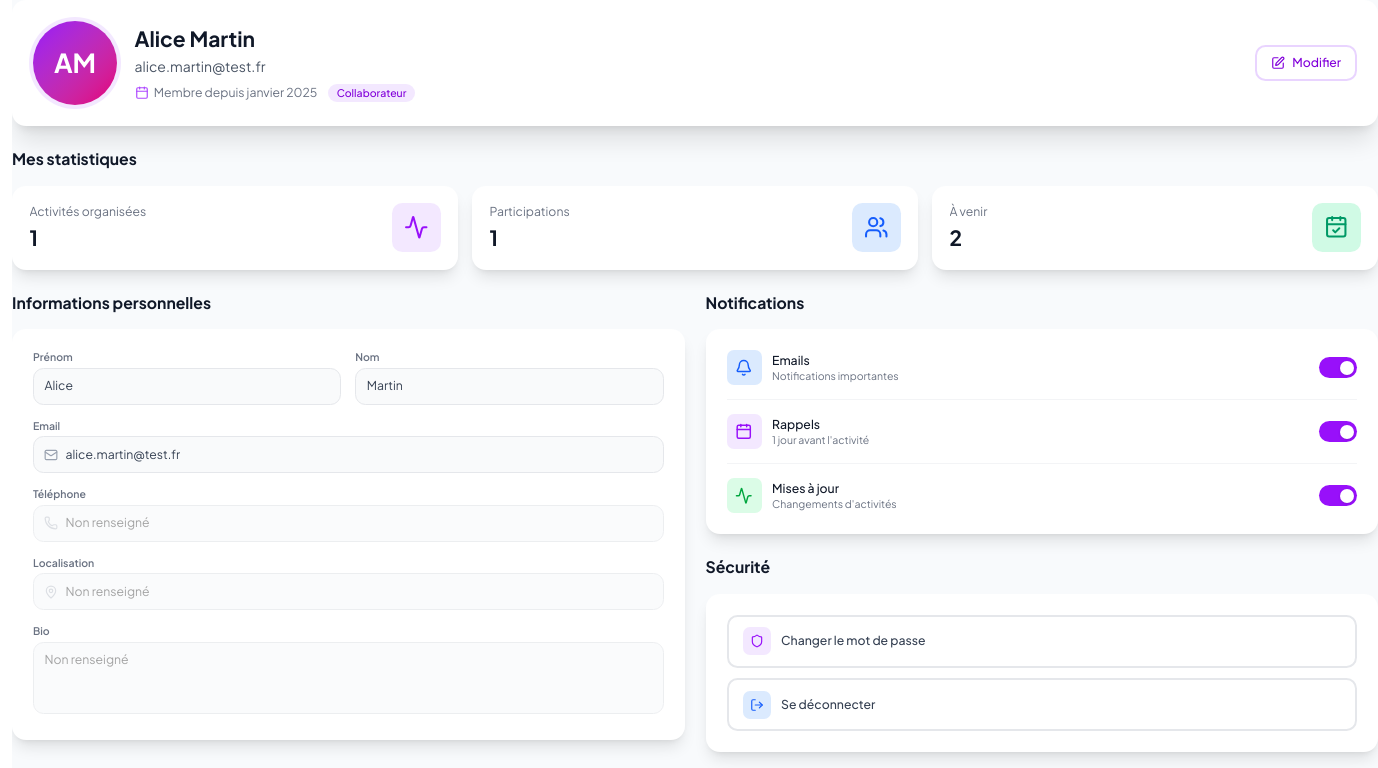
ProfilePage › sauvegarde le profil au clic sur Enregistrer
Expected: the heading "Alice Martin" is shown, [134,24,255,52]
Click the button "Modifier": point(1306, 63) [1255,45,1357,81]
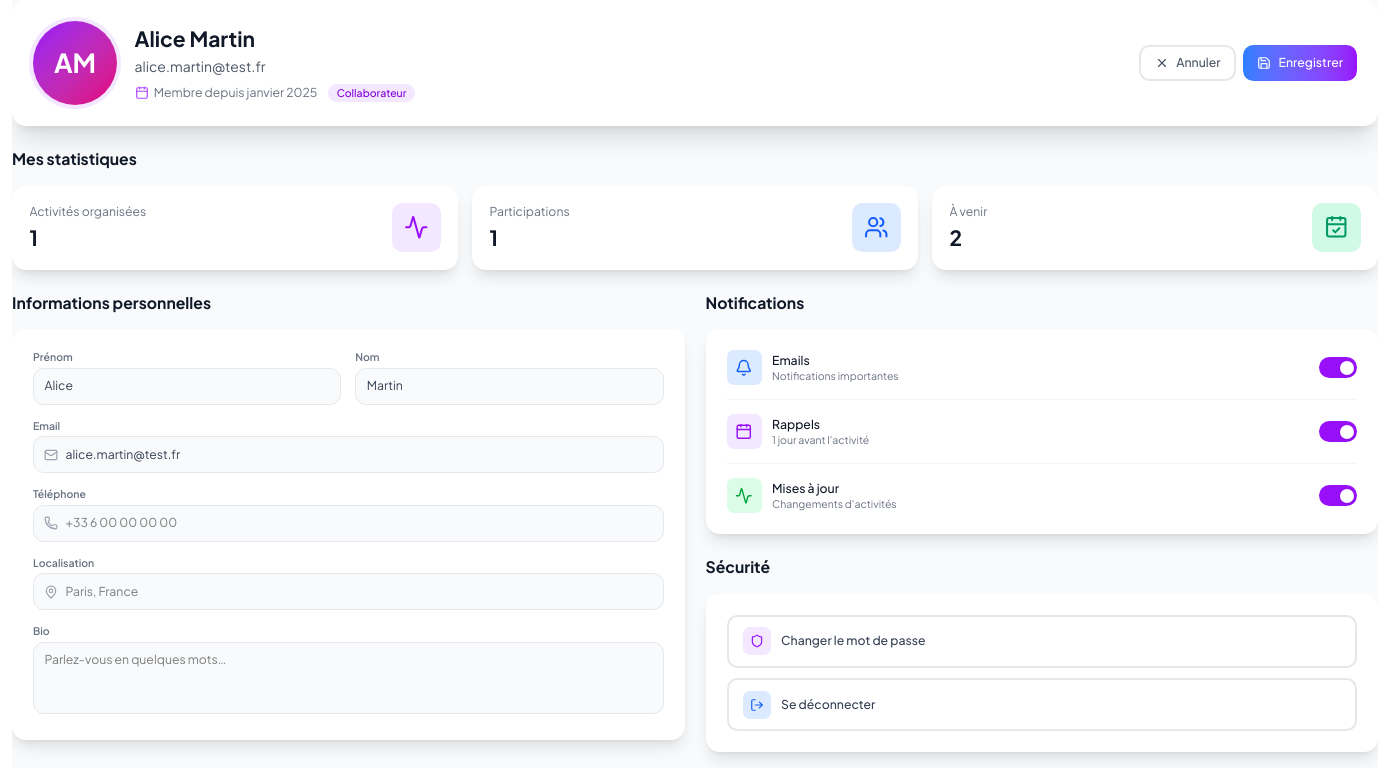
Click the button "Enregistrer": point(1300, 63) [1244,45,1357,81]
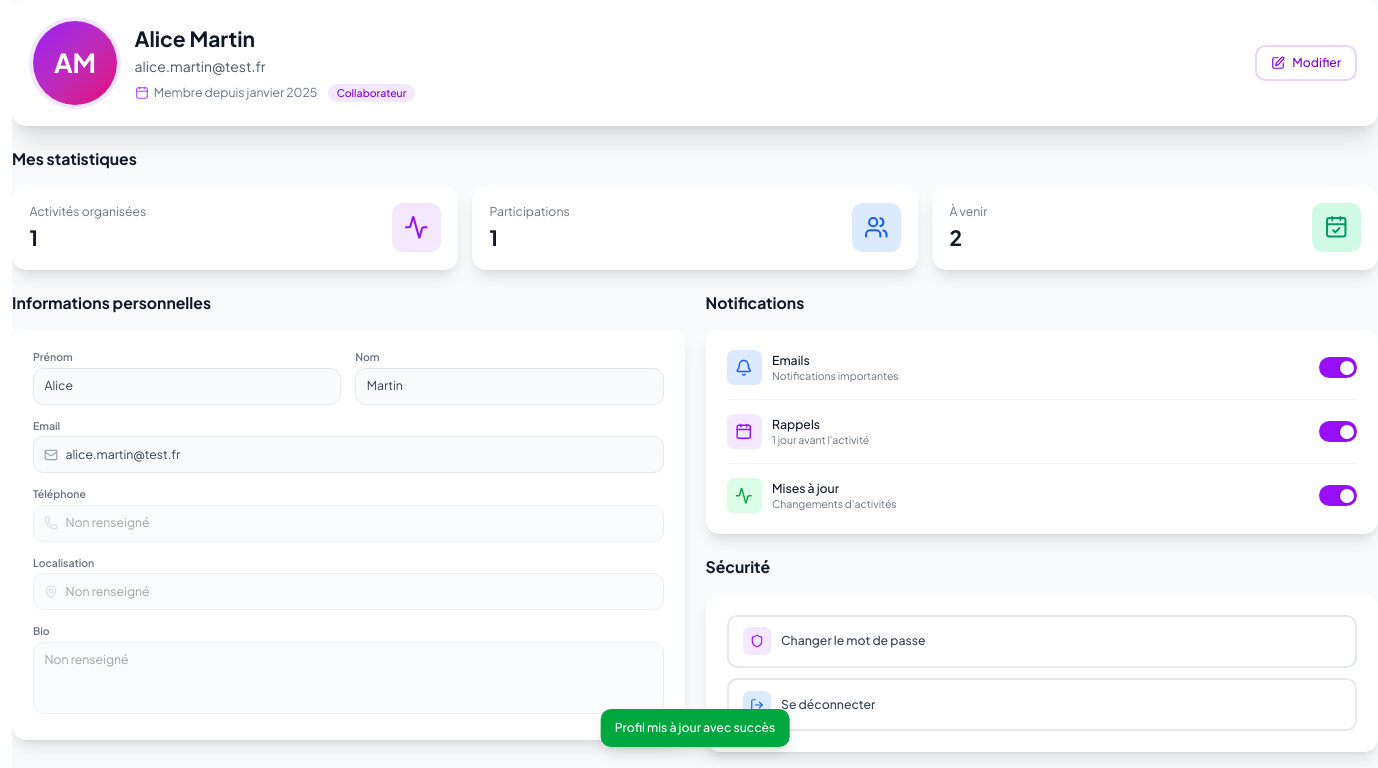
Now the button "Enregistrer" is gone
